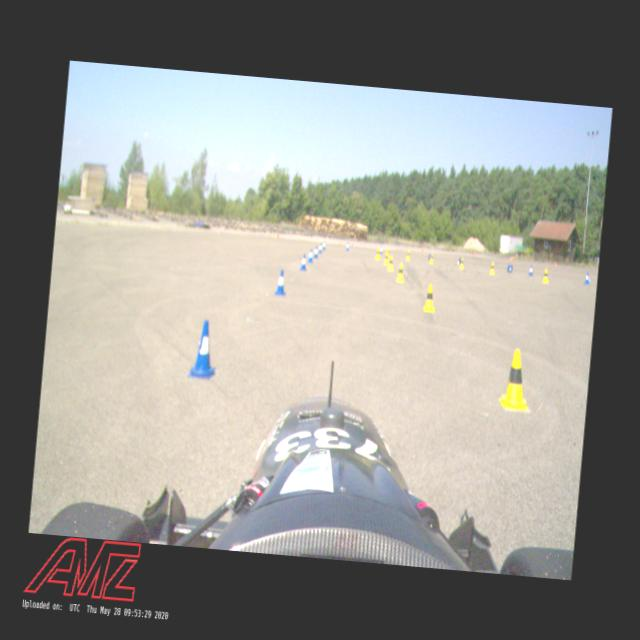blue_cone: (187, 318, 219, 381), (274, 268, 288, 296), (298, 252, 308, 271), (307, 248, 314, 263), (312, 245, 318, 258), (584, 272, 590, 284), (318, 242, 323, 254), (528, 264, 533, 276), (322, 240, 326, 250), (379, 245, 383, 254), (345, 242, 349, 250)
yellow_cone: (497, 348, 535, 412), (422, 283, 438, 313), (395, 262, 405, 282), (386, 254, 394, 272), (542, 267, 550, 283), (488, 260, 496, 274), (383, 252, 389, 264), (428, 252, 434, 264), (375, 248, 380, 260), (459, 256, 464, 268), (386, 246, 390, 258), (406, 249, 410, 260)
